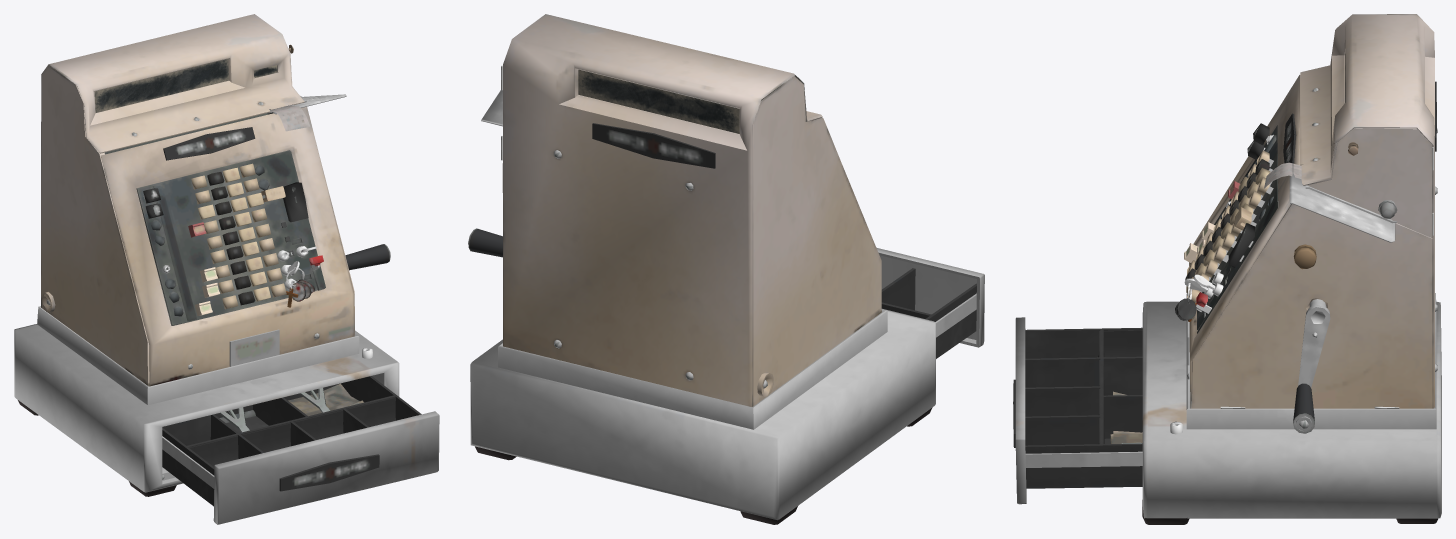
File: CashRegister_01.glb
The picture shows the model from 3 angles, left to right: view 1: azimuth 30°, elevation 25°; view 2: azimuth 150°, elevation 25°; view 3: azimuth 270°, elevation 25°; orthographic projection. The views are drawn at different scales.
Parts seen in each view (by area): view 1: CashRegister_01_body; view 2: CashRegister_01_body; view 3: CashRegister_01_body.
Boxes of the visible parts, <box> form: CashRegister_01_body: <box>14,14,439,524</box>; CashRegister_01_body: <box>468,14,984,524</box>; CashRegister_01_body: <box>1013,14,1441,524</box>.
Size of the model in its own units: 0.5984 by 0.6196 by 0.6242.
2 materials, 2 textured.
